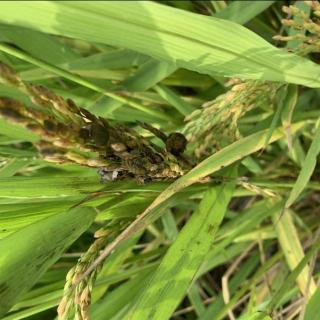Gosong-Palsu: (87, 120, 156, 184), (163, 131, 189, 156)
